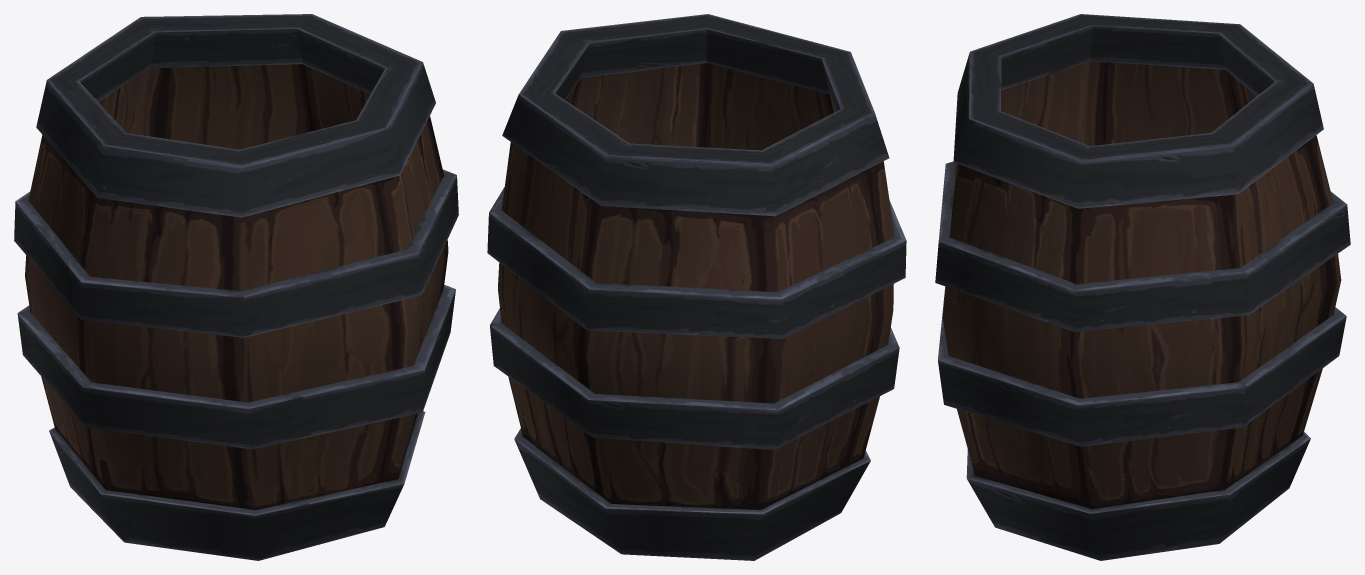
File: SM_PROP_barrel_battle_04.fbx
The picture shows the model from 3 angles, left to right: view 1: azimuth 30°, elevation 25°; view 2: azimuth 150°, elevation 25°; view 3: azimuth 270°, elevation 25°; orthographic projection.
Parts seen in each view (by area): view 1: SM_PROP_barrel_battle_04; view 2: SM_PROP_barrel_battle_04; view 3: SM_PROP_barrel_battle_04.
Boxes of the visible parts, <box> form: SM_PROP_barrel_battle_04: <box>14,14,458,560</box>; SM_PROP_barrel_battle_04: <box>487,14,906,560</box>; SM_PROP_barrel_battle_04: <box>935,14,1350,560</box>.
Bounding box in the file's own units: 82.01 × 85.92 × 79.27.
